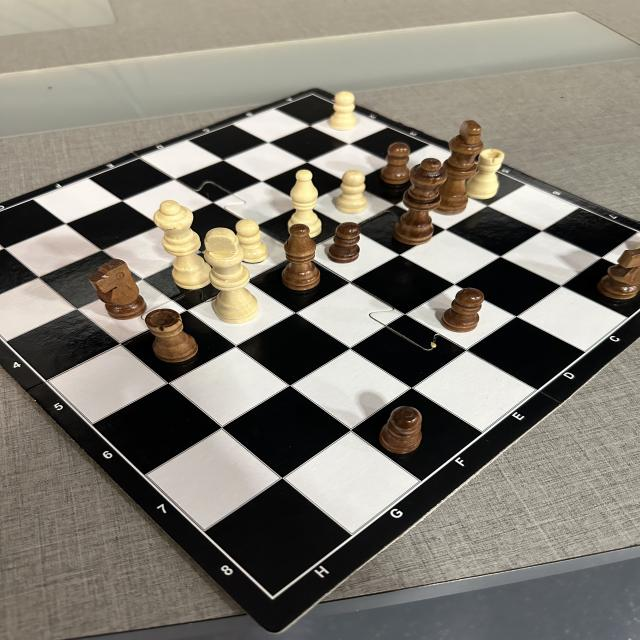Black-Bishop: (281, 223, 320, 290)
Black-King: (433, 120, 484, 216)
Black-Knight: (87, 258, 148, 320), (597, 248, 640, 300)
Black-Pawn: (379, 406, 422, 454), (440, 288, 485, 333), (328, 222, 361, 263), (380, 143, 410, 185)
Black-Queen: (392, 157, 448, 245)
Black-Rook: (144, 308, 198, 363)
White-Bishop: (287, 170, 322, 238)
White-King: (203, 228, 259, 323)
White-Pawn: (334, 170, 368, 214), (236, 220, 268, 264), (328, 91, 356, 131)
White-Queen: (153, 200, 210, 290)
White-Rook: (466, 149, 505, 200)
